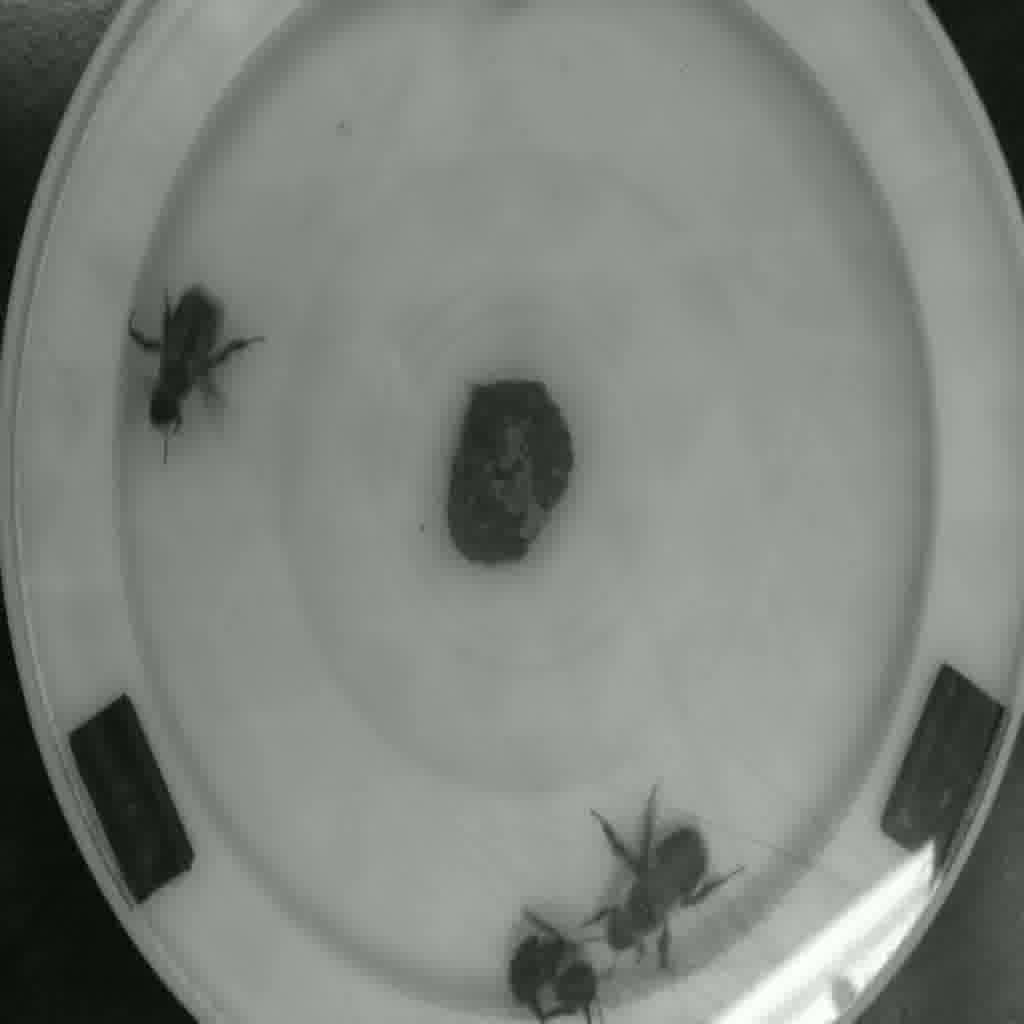bee: (585, 798, 733, 964), (116, 282, 258, 447), (490, 927, 621, 1024)
